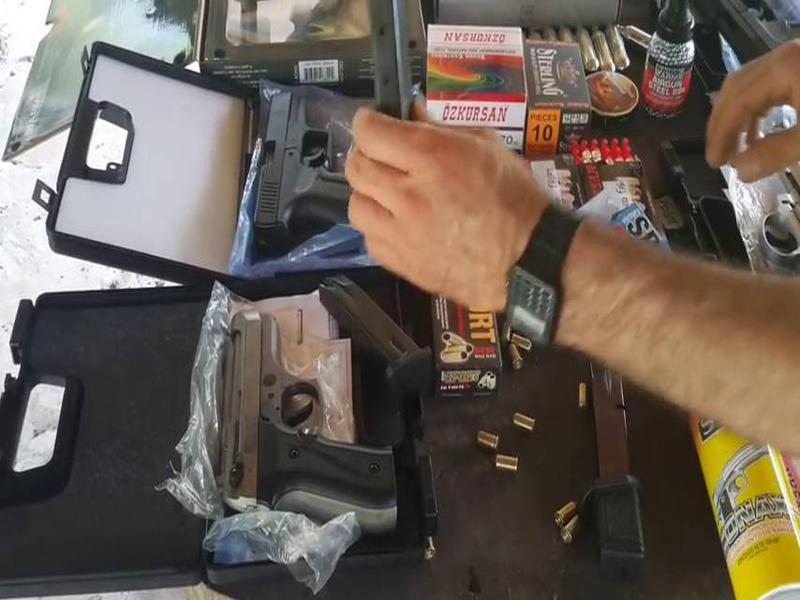Pistola: (207, 288, 423, 531), (247, 84, 407, 275)
